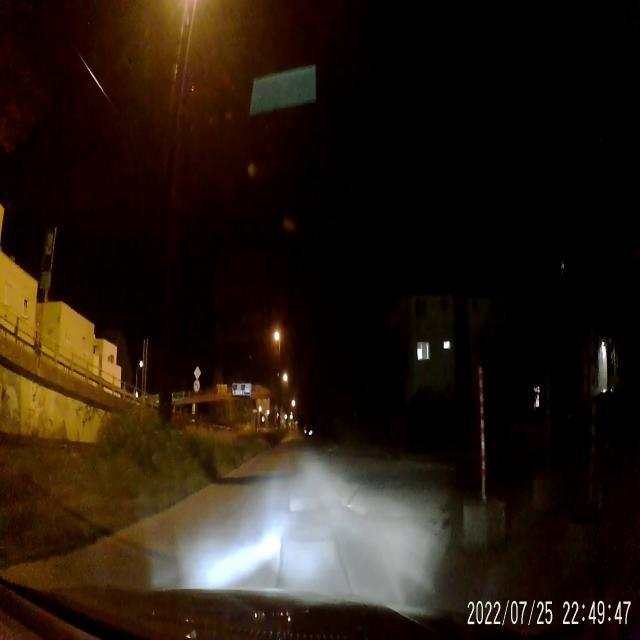Pothole: (286, 496, 321, 518)
